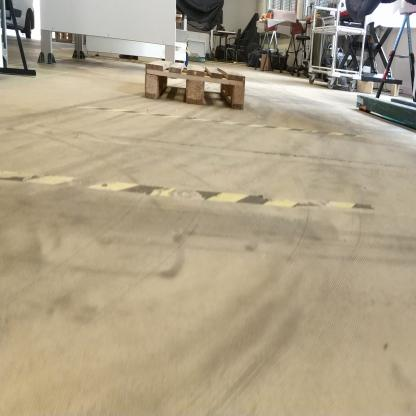BoxFace: (140, 63, 249, 114)
